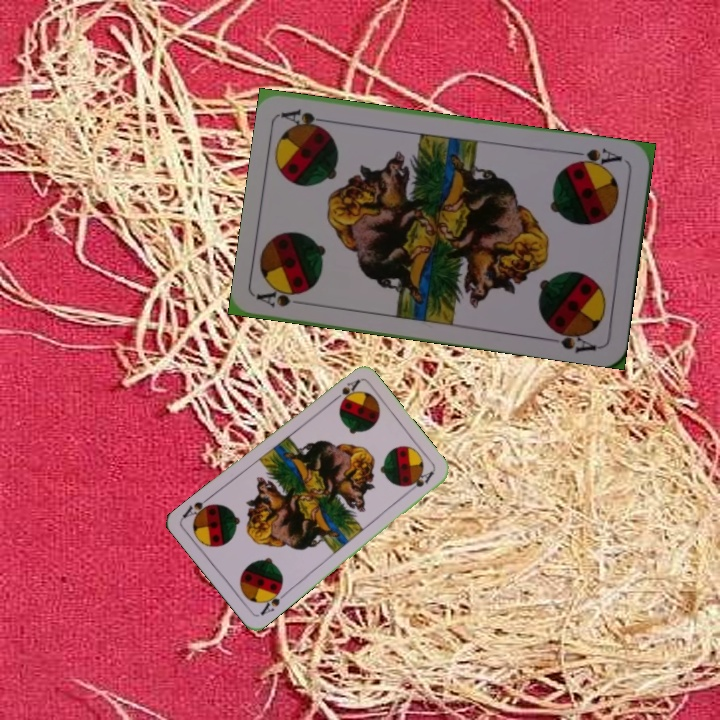SA: (567, 144, 624, 171), (255, 284, 314, 310), (256, 583, 290, 618), (327, 376, 362, 405)
